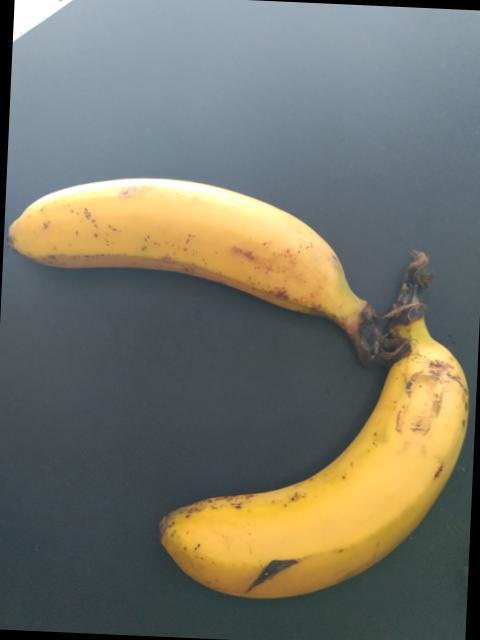ripe: (150, 331, 467, 616), (16, 158, 380, 337)
